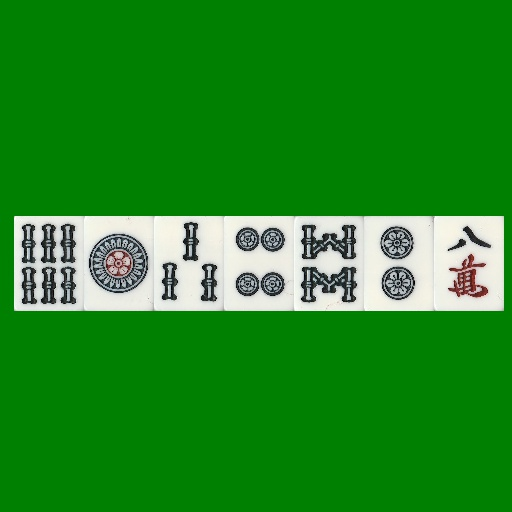1p: (84, 216, 154, 311)
2p: (364, 216, 434, 311)
3s: (154, 216, 224, 311)
4p: (224, 216, 294, 311)
6s: (14, 216, 84, 311)
8m: (434, 216, 504, 311)
8s: (294, 216, 364, 311)
